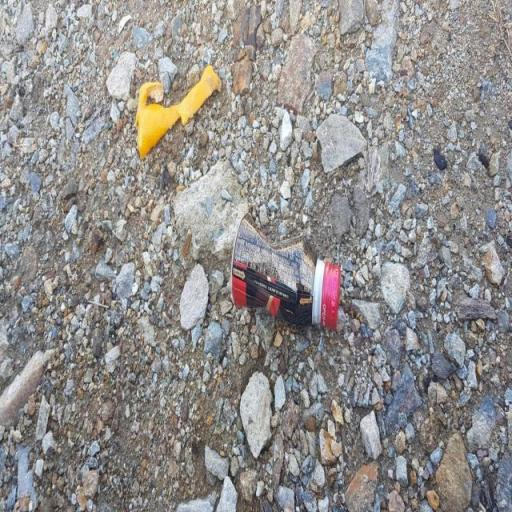metal: (226, 202, 352, 356)
